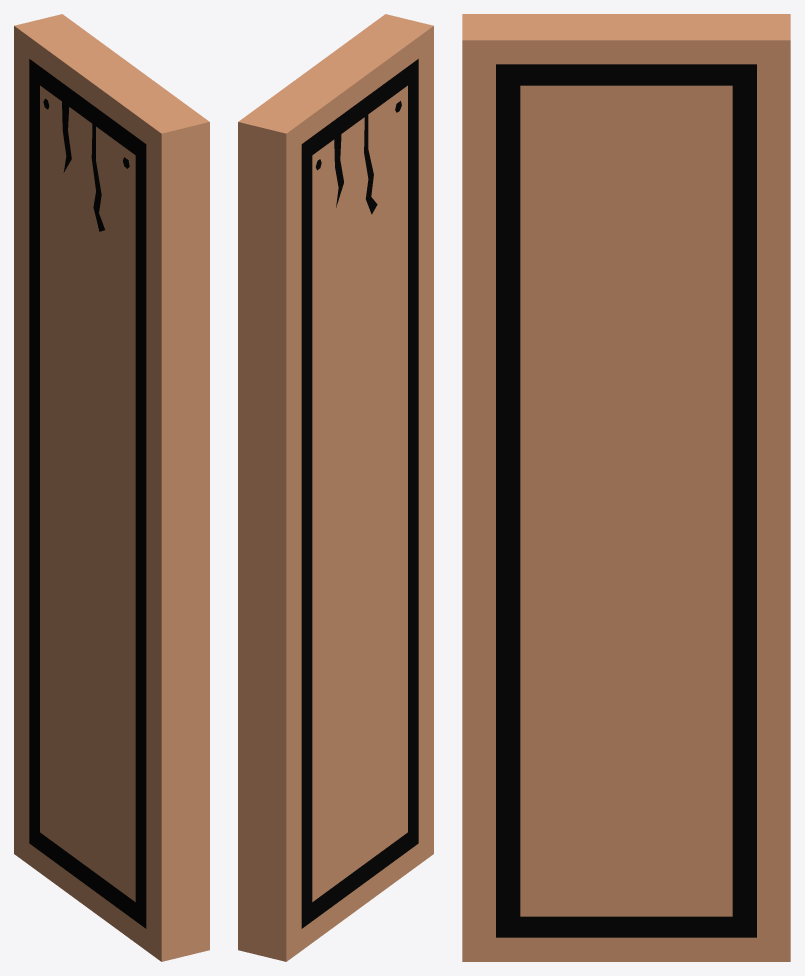
File: Board.fbx
The picture shows the model from 3 angles, left to right: view 1: azimuth 30°, elevation 25°; view 2: azimuth 150°, elevation 25°; view 3: azimuth 270°, elevation 25°; orthographic projection. The views are drawn at different scales.
Visible parts, largest first — view 1: Cube; view 2: Cube; view 3: Cube.
Boxes of the visible parts, bbox=[...] form: Cube: bbox=[14, 14, 209, 961]; Cube: bbox=[238, 14, 433, 961]; Cube: bbox=[462, 14, 790, 961].
Bounding box in the file's own units: 79.99 × 1311 × 423.
